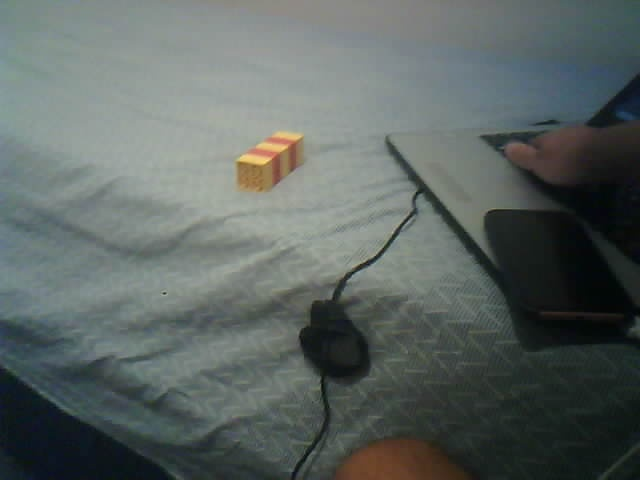lego: (233, 130, 305, 194)
